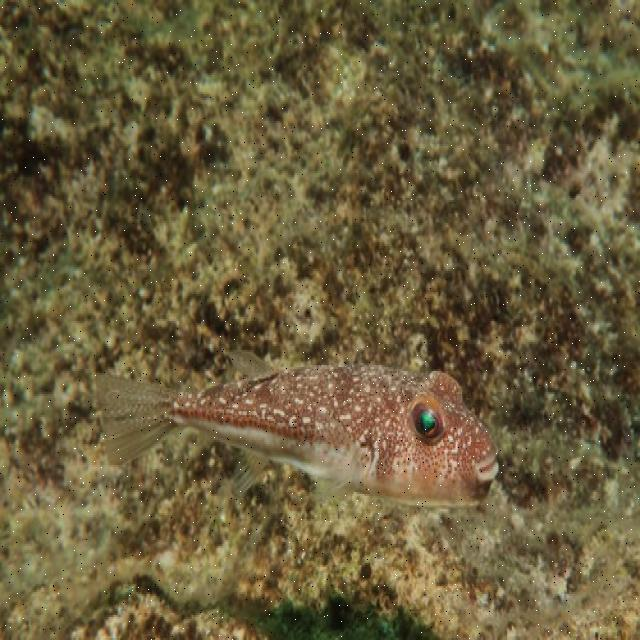Balik: (98, 352, 499, 505)
